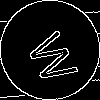W: (25, 25, 88, 88)
